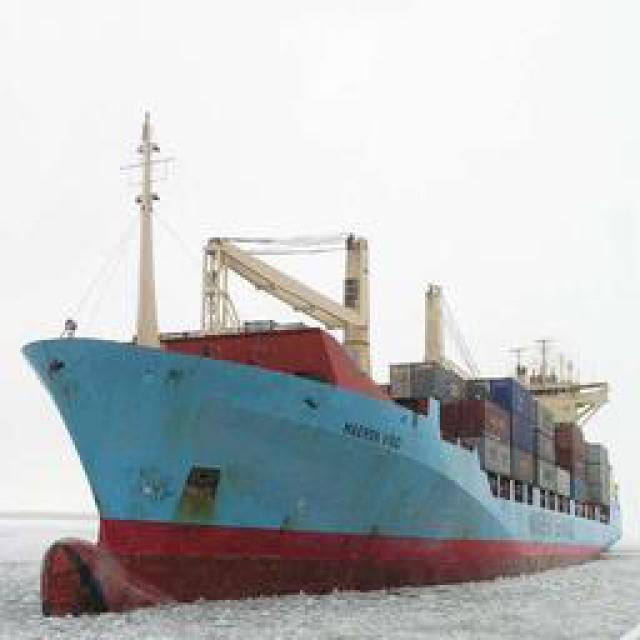Ship: (29, 301, 612, 606)
